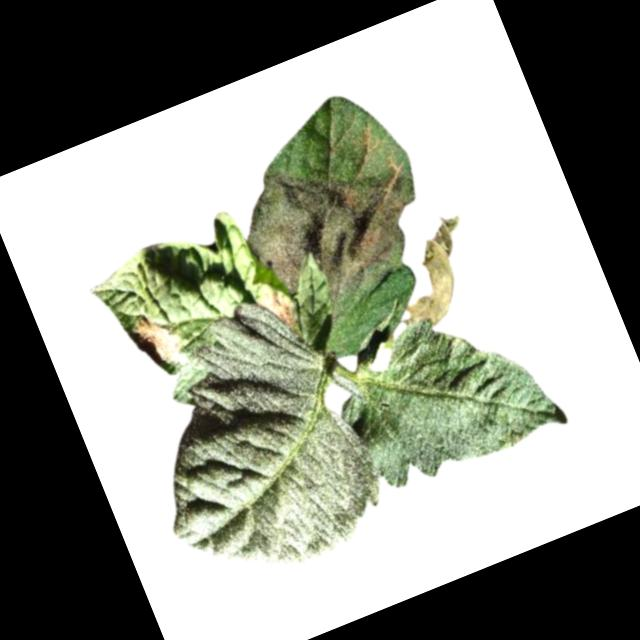Late_blight: (223, 124, 430, 322), (371, 208, 495, 335), (127, 308, 187, 375), (255, 284, 301, 339)
healthy: (104, 280, 398, 605), (319, 283, 570, 503)
